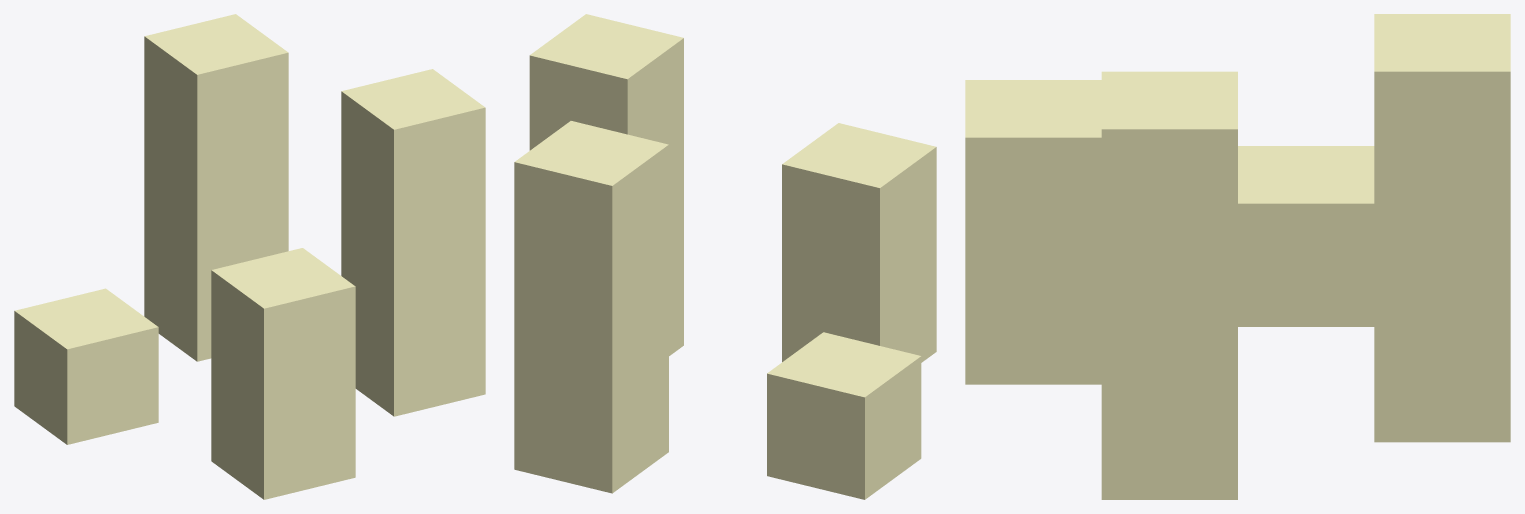
Rendered from Vela 02.obj.
3 renders of one model, left to right at view 1: azimuth 30°, elevation 25°; view 2: azimuth 150°, elevation 25°; view 3: azimuth 270°, elevation 25°, orthographic. The views are drawn at different scales.
Bounding box in the file's own units: 0.4 × 0.3 × 0.4.
1 material, 1 textured.
